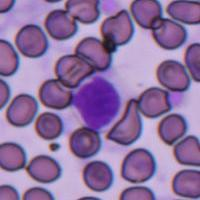L: (70, 68, 135, 133)
